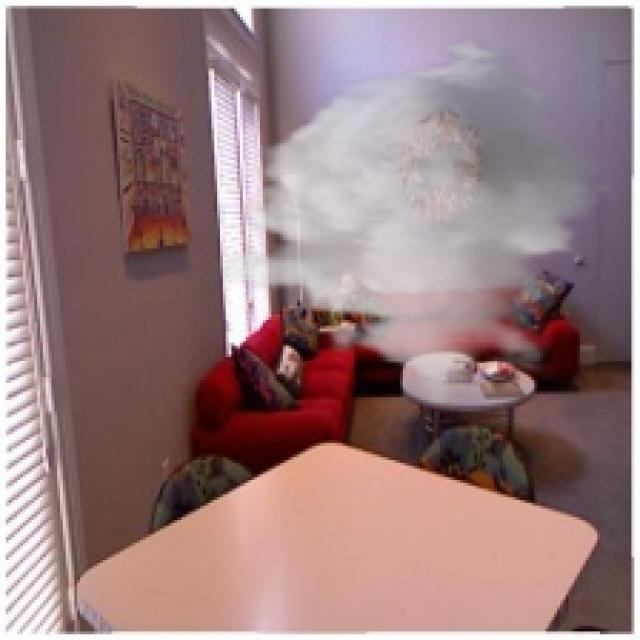Smoke: (215, 34, 620, 409)
